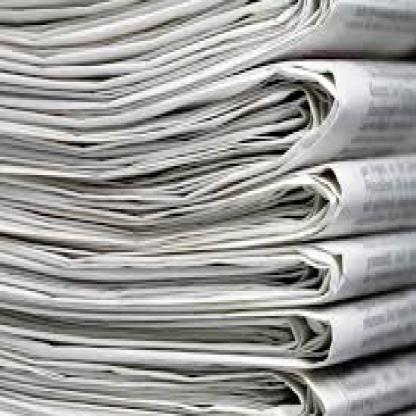paper: (0, 0, 415, 414), (0, 56, 415, 187), (0, 157, 415, 240), (0, 229, 415, 305), (0, 306, 415, 371), (0, 0, 415, 58), (0, 370, 415, 414)
